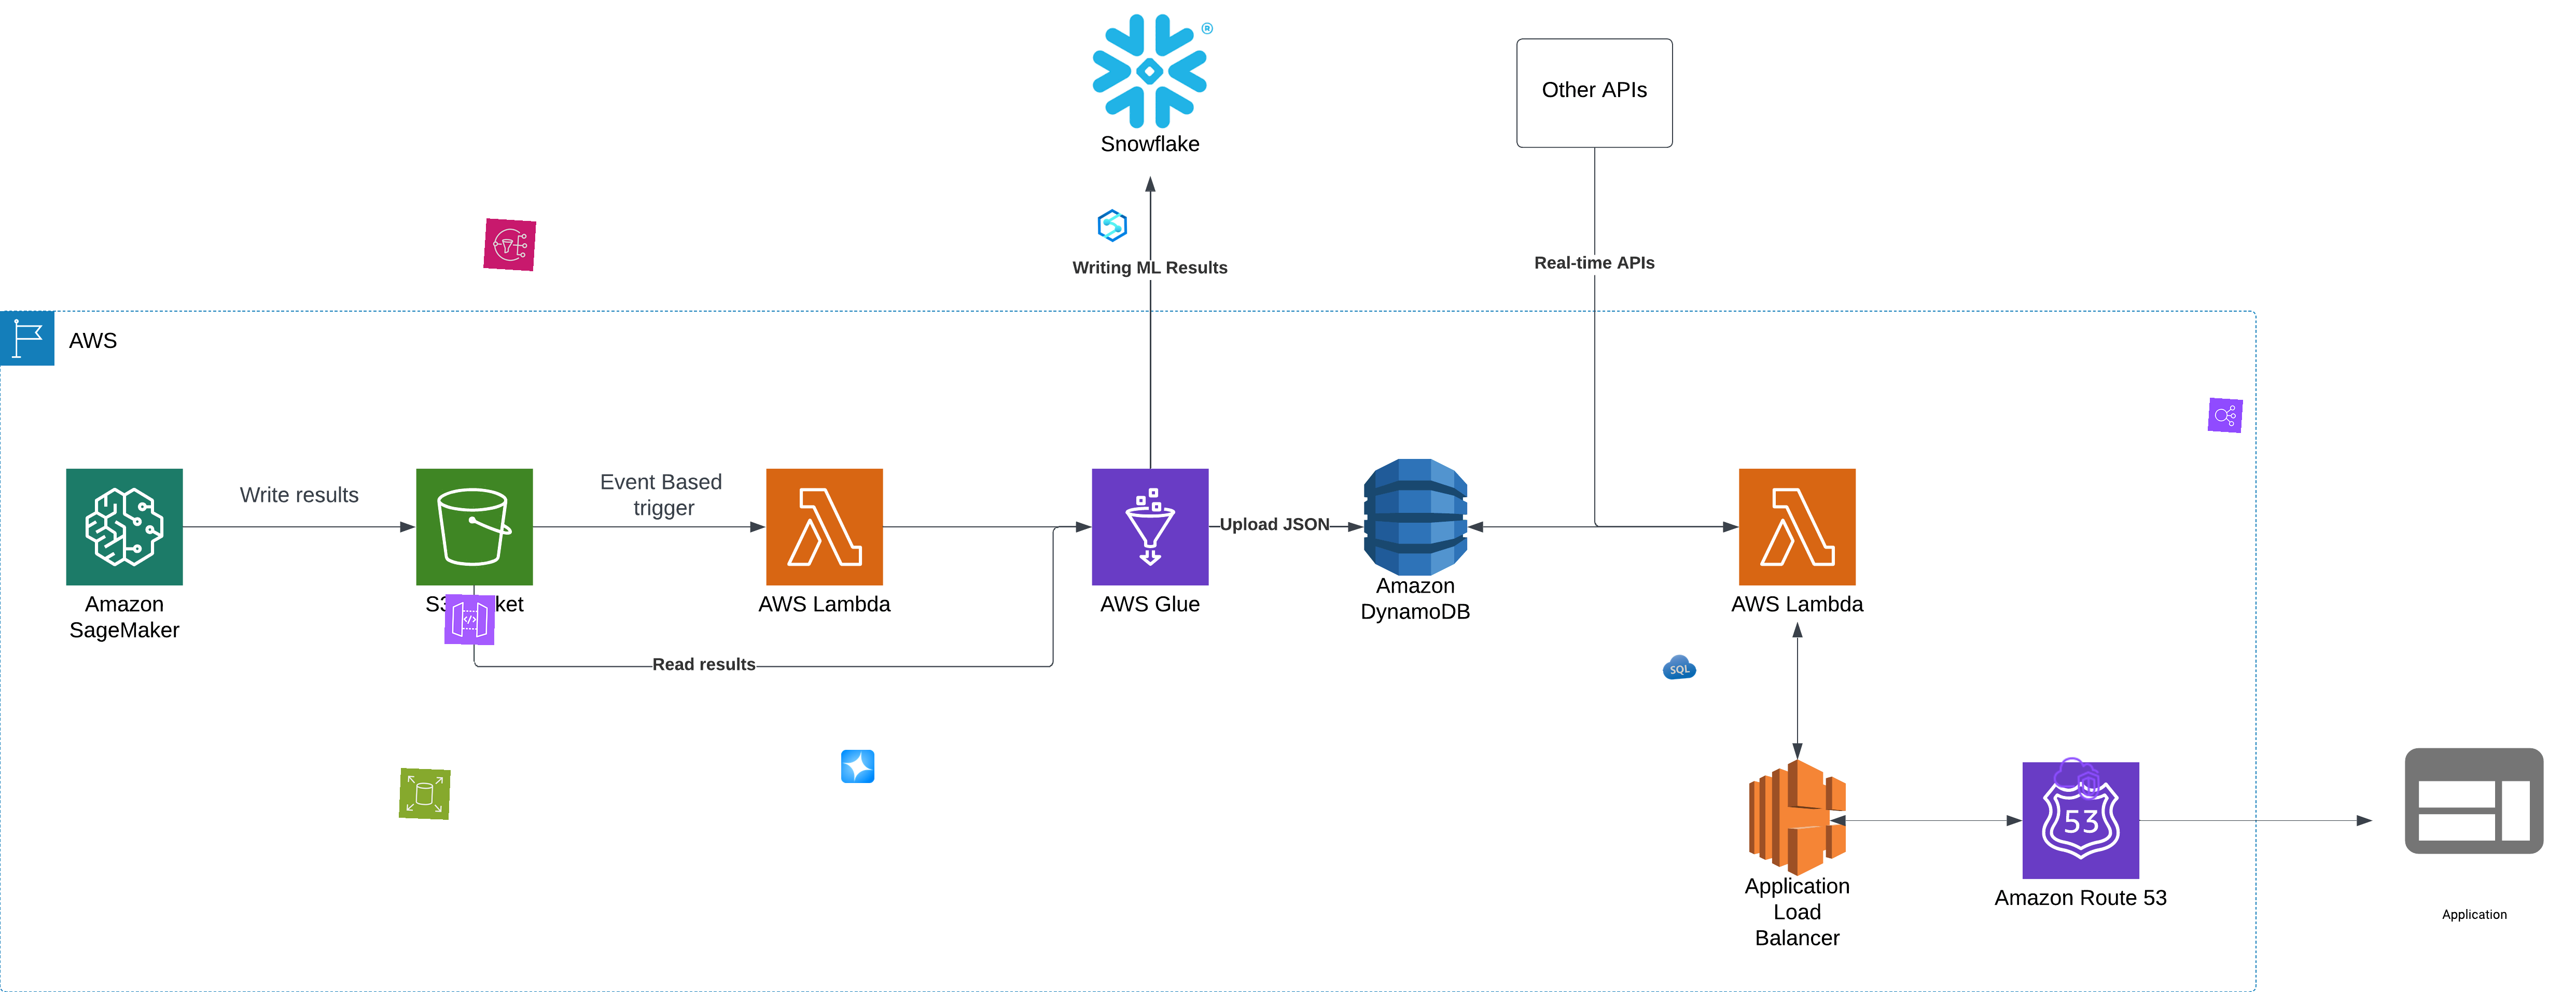aws_amazon_api_gateway: (444, 595, 496, 645)
aws_amazon_elastic_block_store: (399, 769, 450, 820)
aws_amazon_simple_notification_service: (483, 218, 536, 271)
aws_elastic_load_balancing: (2208, 397, 2244, 434)
aws_vpc_virtual_private_cloud_vpc: (2050, 752, 2103, 805)
azure_openai: (841, 749, 876, 783)
azure_sql: (1661, 649, 1697, 685)
azure_synapse_analytics: (1096, 209, 1130, 243)
